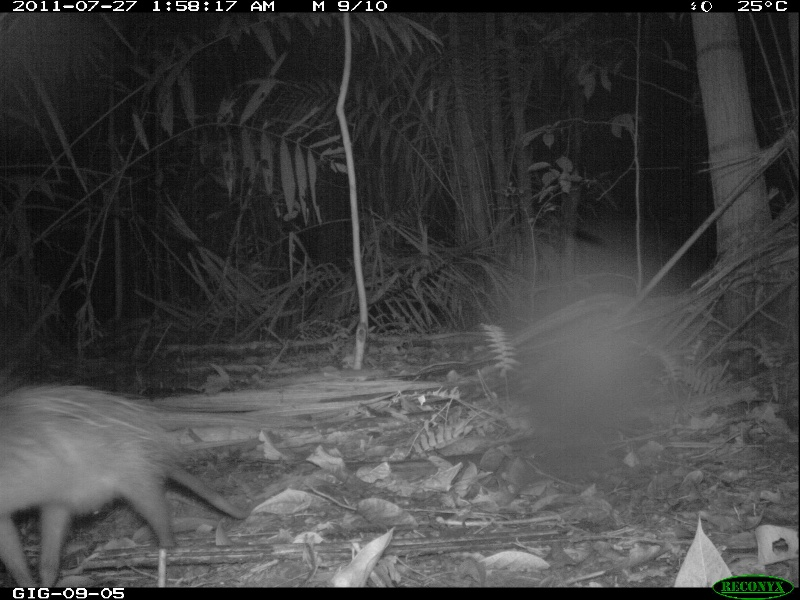opossum: (2, 378, 247, 585)
